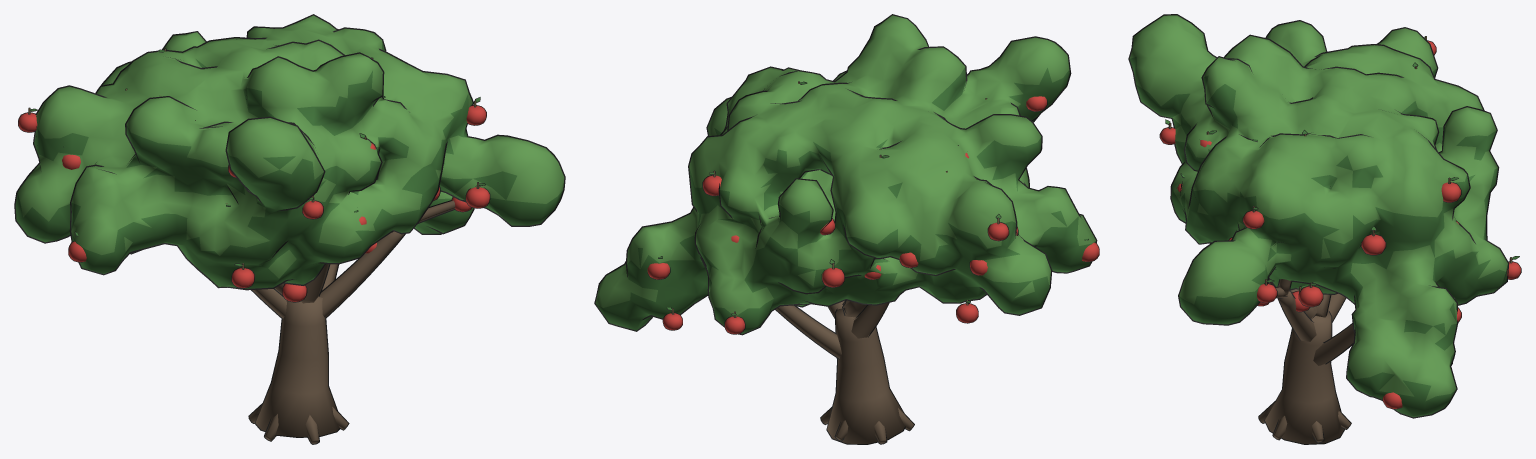
The model's file is AppleTree.fbx.
3 renders of one model, left to right at view 1: azimuth 30°, elevation 25°; view 2: azimuth 150°, elevation 25°; view 3: azimuth 270°, elevation 25°, orthographic. The views are drawn at different scales.
Parts seen in each view (by area): view 1: AppleTree_Canopy, AppleTree_Wood, AppleTree_Fruit; view 2: AppleTree_Canopy, AppleTree_Wood, AppleTree_Fruit; view 3: AppleTree_Canopy, AppleTree_Wood, AppleTree_Fruit.
Boxes of the visible parts, x1,y1,x2,y2 form: AppleTree_Canopy: (14,14,565,290); AppleTree_Wood: (248,200,455,444); AppleTree_Fruit: (18,48,490,302); AppleTree_Canopy: (594,14,1097,335); AppleTree_Wood: (775,300,914,444); AppleTree_Fruit: (647,81,1099,334); AppleTree_Canopy: (1128,14,1509,418); AppleTree_Wood: (1258,279,1354,444); AppleTree_Fruit: (1159,36,1521,409).
Bounding box in the file's own units: 754 × 636 × 604.
